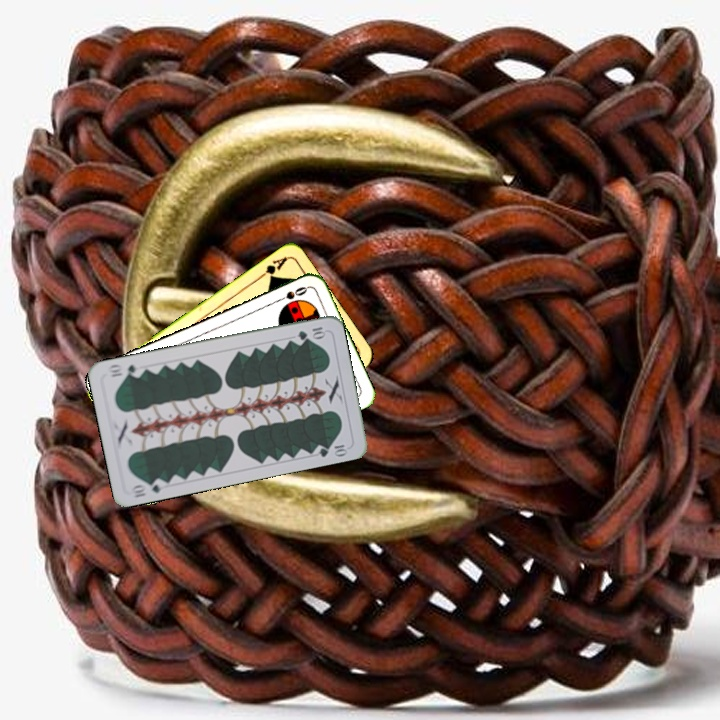G10: (127, 475, 168, 500), (294, 323, 328, 342)
GA: (254, 253, 290, 283)
SO: (272, 282, 310, 305)
